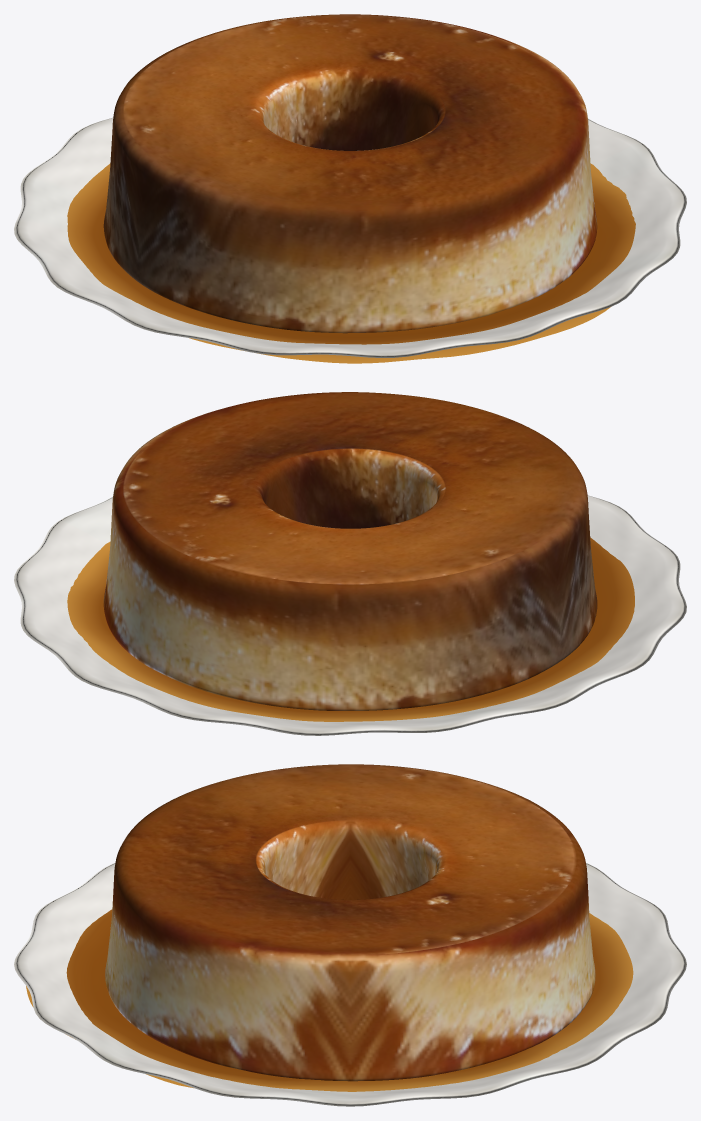
File: pudim.glb
3 renders of one model, top to bottom at view 1: azimuth 30°, elevation 25°; view 2: azimuth 150°, elevation 25°; view 3: azimuth 270°, elevation 25°, orthographic.
Parts seen in each view (by area): view 1: satin, ceramic, gloss; view 2: satin, ceramic, gloss; view 3: satin, ceramic, gloss.
Boxes of the visible parts, left/top/right/bottom form: satin: left=103, top=14, right=597, bottom=333; ceramic: left=14, top=117, right=686, bottom=357; gloss: left=67, top=163, right=635, bottom=363; satin: left=103, top=392, right=597, bottom=710; ceramic: left=14, top=495, right=686, bottom=735; gloss: left=67, top=537, right=634, bottom=721; satin: left=105, top=764, right=595, bottom=1081; ceramic: left=14, top=863, right=686, bottom=1106; gloss: left=26, top=909, right=633, bottom=1091.
Bounding box in the file's own units: 0.3141 × 0.0685 × 0.3141.
3 materials, 3 textured.
